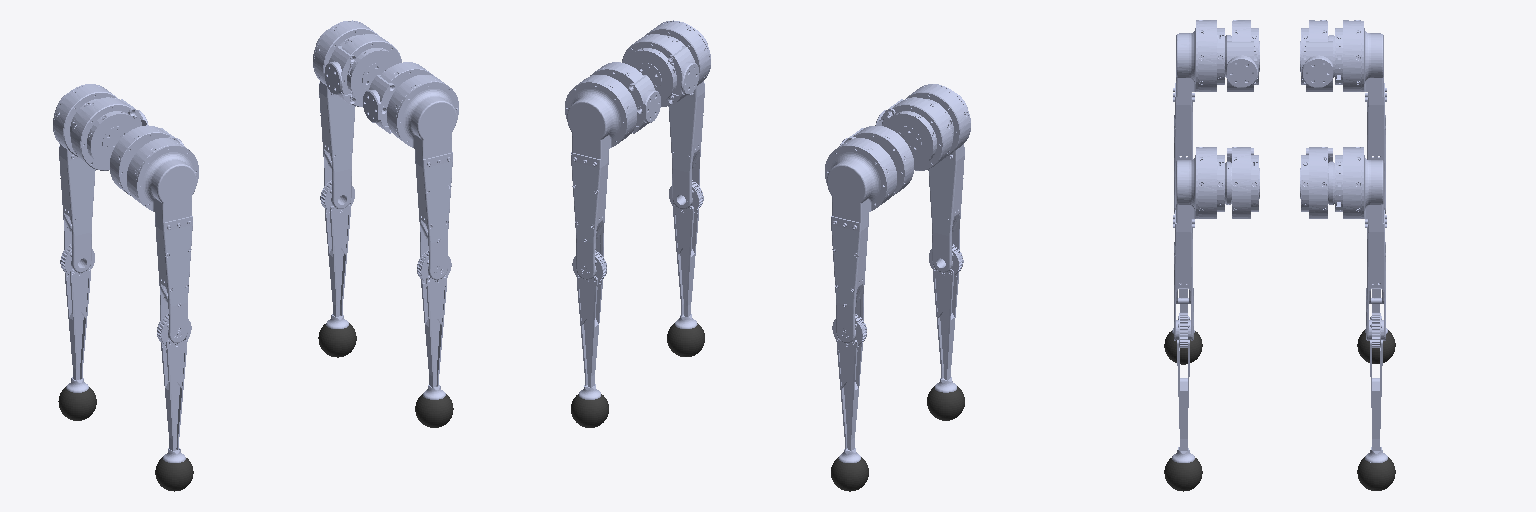
robot.urdf — mit_mini_cheetah:
<?xml version="1.0" encoding="utf-8"?>
<!-- This URDF was automatically created by SolidWorks to URDF Exporter! Originally created by [author] ([email redacted]) 
     Commit Version: 1.5.1-0-g916b5db  Build Version: 1.5.7152.31018
     For more information, please see http://wiki.ros.org/sw_urdf_exporter -->
<robot
  name="mit_mini_cheetah">
  <link
    name="body">
    <inertial>
      <origin
        xyz="-0.00949304 0 -0.007428824"
        rpy="0 0 0" />
      <mass
        value="5.42137" />
      <inertia
        ixx="0.015659"
        ixy="0"
        ixz="0.000973"
        iyy="0.0447046"
        iyz="0"
        izz="0.0531832" />
    </inertial>
    <visual>
      <origin
        xyz="0 0 0"
        rpy="0 0 0" />
      <geometry>
        <mesh
          filename="meshes/body.STL" />
      </geometry>
      <material
        name="">
        <color
          rgba="0.79216 0.81961 0.93333 1" />
      </material>
    </visual>
    <collision>
      <origin
        xyz="0 0 0"
        rpy="0 0 0" />
      <geometry>
        <mesh
          filename="meshes/body_rebuild.obj" />
      </geometry>
    </collision>
  </link>
  <link
    name="abduct_fl">
    <inertial>
      <origin
        xyz="-0.0024349 -0.00060384 2.8097E-05"
        rpy="0 0 0" />
      <mass
        value="0.532" />
      <inertia
        ixx="0.00033168"
        ixy="-5.811E-06"
        ixz="5.93E-07"
        iyy="0.00053532"
        iyz="-2.8E-07"
        izz="0.00037553" />
    </inertial>
    <visual>
      <origin
        xyz="0 0 0"
        rpy="0 0 0" />
      <geometry>
        <mesh
          filename="meshes/abduct_fl.STL" />
      </geometry>
      <material
        name="">
        <color
          rgba="0.79216 0.81961 0.93333 1" />
      </material>
    </visual>
    <collision>
      <origin
        xyz="0 0 0"
        rpy="0 0 0" />
      <geometry>
        <mesh
          filename="meshes/hip_module_fl.obj" />
      </geometry>
    </collision>
  </link>
  <joint
    name="torso_to_abduct_fl_j"
    type="revolute">
    <origin
      xyz="0.196 0.05 0"
      rpy="0 0 0" />
    <parent
      link="body" />
    <child
      link="abduct_fl" />
    <axis
      xyz="1 0 0" />
    <limit
      lower="-6.28"
      upper="6.28"
      effort="30"
      velocity="24" />
    <joint_properties damping=".0" friction=".0"/>
  </joint>
  <link
    name="thigh_fl">
    <inertial>
      <origin
        xyz="0.00013591 -0.024874 -0.0075354"
        rpy="0 0 0" />
      <mass
        value="0.67586" />
      <inertia
        ixx="0.0010561"
        ixy="2.23E-06"
        ixz="-1.358E-07"
        iyy="0.001148641"
        iyz="-0.00012713"
        izz="0.00048521" />
    </inertial>
    <visual>
      <origin
        xyz="0 0 0"
        rpy="0 0 0" />
      <geometry>
        <mesh
          filename="meshes/thigh_fl.STL" />
      </geometry>
      <material
        name="">
        <color
          rgba="0.79216 0.81961 0.93333 1" />
      </material>
    </visual>
    <collision>
      <origin
        xyz="0 0 0"
        rpy="0 0 0" />
      <geometry>
        <mesh
          filename="meshes/thigh_module_rebuild_fl.obj" />
      </geometry>
    </collision>
  </link>
  <joint
    name="abduct_fl_to_thigh_fl_j"
    type="revolute">
    <origin
      xyz="0 0.07575 0"
      rpy="0 0 0" />
    <parent
      link="abduct_fl" />
    <child
      link="thigh_fl" />
    <axis
      xyz="0 -1 0" />
    <limit
      lower="-6.28"
      upper="6.28"
      effort="30"
      velocity="24" />
    <joint_properties damping=".0" friction=".0"/>
  </joint>
  <link
    name="shank_fl">
    <inertial>
      <origin
        xyz="0 0 0.037888"
        rpy="0 0 0" />
      <mass
        value="0.09264" />
      <inertia
        ixx="0.00029147"
        ixy="0"
        ixz="0"
        iyy="0.00029711"
        iyz="0"
        izz="1.0337E-05" />
    </inertial>
    <visual>
      <origin
        xyz="0 0 0"
        rpy="0 0 0" />
      <geometry>
        <mesh
          filename="meshes/shank_fl.STL" />
      </geometry>
      <material
        name="">
        <color
          rgba="0.79216 0.81961 0.93333 1" />
      </material>
    </visual>
    <collision>
      <origin
        xyz="0 0 0"
        rpy="0 0 0" />
      <geometry>
        <mesh
          filename="meshes/shank_module_fl.obj" />
      </geometry>
    </collision>
  </link>
  <joint
    name="thigh_fl_to_knee_fl_j"
    type="revolute">
    <origin
      xyz="0 0 -0.2115"
      rpy="0 0 0" />
    <parent
      link="thigh_fl" />
    <child
      link="shank_fl" />
    <axis
      xyz="0 -1 0" />
    <limit
      lower="-1.57"
      upper="1.57"
      effort="30"
      velocity="24" />
    <joint_properties damping=".0" friction=".0"/>
  </joint>
  <link
    name="toe_fl">
    <contact>
      <friction_anchor/>
      <stiffness value="30000.0"/>
      <damping value="1000.0"/>
      <spinning_friction value="0.1"/>
      <lateral_friction value="10.0"/>
    </contact>
    <inertial>
      <origin
        xyz="0 1.8359E-10 0.00048927"
        rpy="0 0 0" />
      <mass
        value="0.013021" />
      <inertia
        ixx="4.7846E-06"
        ixy="6.5112E-29"
        ixz="1.7122E-22"
        iyy="4.7846E-06"
        iyz="2.1623E-13"
        izz="5.3609E-06" />
    </inertial>
    <visual>
      <origin
        xyz="0 0 0"
        rpy="0 0 0" />
      <geometry>
        <mesh
          filename="meshes/toe_fl.STL" />
      </geometry>
      <material
        name="">
        <color
          rgba="0.29804 0.29804 0.29804 1" />
      </material>
    </visual>
    <collision>
      <origin
        xyz="0 0 0"
        rpy="0 0 0" />
      <geometry>
        <mesh
          filename="meshes/toe_fl.obj" />
      </geometry>
    </collision>
  </link>
  <joint
    name="toe_fl_joint"
    type="fixed">
    <origin
      xyz="-0.00025 0.00024999 -0.20727"
      rpy="0 0 0" />
    <parent
      link="shank_fl" />
    <child
      link="toe_fl" />
    <axis
      xyz="0 0 0" />
    <dynamics
      damping="0"
      friction="0" />
  </joint>
  <link
    name="abduct_fr">
    <inertial>
      <origin
        xyz="-0.0024349 0.0006038 -2.81E-05"
        rpy="0 0 0" />
      <mass
        value="0.532" />
      <inertia
        ixx="0.00033168"
        ixy="5.811E-06"
        ixz="-5.93E-07"
        iyy="0.00053532"
        iyz="-2.8E-07"
        izz="0.00037553" />
    </inertial>
    <visual>
      <origin
        xyz="0 0 0"
        rpy="0 0 0" />
      <geometry>
        <mesh
          filename="meshes/abduct_fr.STL" />
      </geometry>
      <material
        name="">
        <color
          rgba="0.79216 0.81961 0.93333 1" />
      </material>
    </visual>
    <collision>
      <origin
        xyz="0 0 0"
        rpy="0 0 0" />
      <geometry>
        <mesh
          filename="meshes/hip_module_fr.obj" />
      </geometry>
    </collision>
  </link>
  <joint
    name="torso_to_abduct_fr_j"
    type="revolute">
    <origin
      xyz="0.196 -0.05 0"
      rpy="0 0 0" />
    <parent
      link="body" />
    <child
      link="abduct_fr" />
    <axis
      xyz="1 0 0" />
    <limit
      lower="-6.28"
      upper="6.28"
      effort="30"
      velocity="24" />
    <joint_properties damping=".0" friction=".0"/>
  </joint>
  <link
    name="thigh_fr">
    <inertial>
      <origin
        xyz="0.000136 0.024874 -0.007535"
        rpy="0 0 0" />
      <mass
        value="0.67586" />
      <inertia
        ixx="0.0010561"
        ixy="2.23E-06"
        ixz="1.358E-07"
        iyy="0.0011486"
        iyz="0.00012713"
        izz="0.00048521" />
    </inertial>
    <visual>
      <origin
        xyz="0 0 0"
        rpy="0 0 0" />
      <geometry>
        <mesh
          filename="meshes/thigh_fr.STL" />
      </geometry>
      <material
        name="">
        <color
          rgba="0.79216 0.81961 0.93333 1" />
      </material>
    </visual>
    <collision>
      <origin
        xyz="0 0 0"
        rpy="0 0 0" />
      <geometry>
        <mesh
          filename="meshes/thigh_module_rebuild_fr.obj" />
      </geometry>
    </collision>
  </link>
  <joint
    name="abduct_fr_to_thigh_fr_j"
    type="revolute">
    <origin
      xyz="0 -0.07575 0"
      rpy="0 0 0" />
    <parent
      link="abduct_fr" />
    <child
      link="thigh_fr" />
    <axis
      xyz="0 -1 0" />
    <limit
      lower="-6.28"
      upper="6.28"
      effort="30"
      velocity="24" />
    <joint_properties damping=".0" friction=".0"/>
  </joint>
  <link
    name="shank_fr">
    <inertial>
      <origin
        xyz="0 0 0.037888"
        rpy="0 0 0" />
      <mass
        value="0.09264" />
      <inertia
        ixx="0.00029147"
        ixy="0"
        ixz="0"
        iyy="0.00029711"
        iyz="0"
        izz="1.0337E-05" />
    </inertial>
    <visual>
      <origin
        xyz="0 0 0"
        rpy="0 0 0" />
      <geometry>
        <mesh
          filename="meshes/shank_fr.STL" />
      </geometry>
      <material
        name="">
        <color
          rgba="0.79216 0.81961 0.93333 1" />
      </material>
    </visual>
    <collision>
      <origin
        xyz="0 0 0"
        rpy="0 0 0" />
      <geometry>
        <mesh
          filename="meshes/shank_module_fr.obj" />
      </geometry>
    </collision>
  </link>
  <joint
    name="thigh_fr_to_knee_fr_j"
    type="revolute">
    <origin
      xyz="0 0 -0.2115"
      rpy="0 0 0" />
    <parent
      link="thigh_fr" />
    <child
      link="shank_fr" />
    <axis
      xyz="0 -1 0" />
    <limit
      lower="-1.57"
      upper="1.57"
      effort="30"
      velocity="24" />
    <joint_properties damping=".0" friction=".0"/>
  </joint>
  <link
    name="toe_fr">
    <contact>
      <friction_anchor/>
      <stiffness value="30000.0"/>
      <damping value="1000.0"/>
      <spinning_friction value="0.1"/>
      <lateral_friction value="10.0"/>
    </contact>
    <inertial>
      <origin
        xyz="0 -1.8359E-10 0.00048927"
        rpy="0 0 0" />
      <mass
        value="0.013021" />
      <inertia
        ixx="4.7846E-06"
        ixy="2.6548E-28"
        ixz="-6.9737E-22"
        iyy="4.7846E-06"
        iyz="-2.1623E-13"
        izz="5.3609E-06" />
    </inertial>
    <visual>
      <origin
        xyz="0 0 0"
        rpy="0 0 0" />
      <geometry>
        <mesh
          filename="meshes/toe_fr.STL" />
      </geometry>
      <material
        name="">
        <color
          rgba="0.29804 0.29804 0.29804 1" />
      </material>
    </visual>
    <collision>
      <origin
        xyz="0 0 0"
        rpy="0 0 0" />
      <geometry>
        <mesh
          filename="meshes/toe_fr.obj" />
      </geometry>
    </collision>
  </link>
  <joint
    name="toe_fr_joint"
    type="fixed">
    <origin
      xyz="0.00025 -0.00024999 -0.20727"
      rpy="0 0 0" />
    <parent
      link="shank_fr" />
    <child
      link="toe_fr" />
    <axis
      xyz="0 0 0" />
    <dynamics
      damping="0"
      friction="0" />
  </joint>
  <link
    name="abduct_hl">
    <inertial>
      <origin
        xyz="0.0024349 -0.0006038 -2.81E-05"
        rpy="0 0 0" />
      <mass
        value="0.532" />
      <inertia
        ixx="0.00033168"
        ixy="5.811E-06"
        ixz="5.93E-07"
        iyy="0.00053532"
        iyz="2.8E-07"
        izz="0.00037553" />
    </inertial>
    <visual>
      <origin
        xyz="0 0 0"
        rpy="0 0 0" />
      <geometry>
        <mesh
          filename="meshes/abduct_hl.STL" />
      </geometry>
      <material
        name="">
        <color
          rgba="0.79216 0.81961 0.93333 1" />
      </material>
    </visual>
    <collision>
      <origin
        xyz="0 0 0"
        rpy="0 0 0" />
      <geometry>
        <mesh
          filename="meshes/hip_module_hl.obj" />
      </geometry>
    </collision>
  </link>
  <joint
    name="torso_to_abduct_hl_j"
    type="revolute">
    <origin
      xyz="-0.196 0.05 0"
      rpy="0 0 0" />
    <parent
      link="body" />
    <child
      link="abduct_hl" />
    <axis
      xyz="1 0 0" />
    <limit
      lower="-6.28"
      upper="6.28"
      effort="30"
      velocity="24" />
    <joint_properties damping=".0" friction=".0"/>
  </joint>
  <link
    name="thigh_hl">
    <inertial>
      <origin
        xyz="-0.000136 -0.024874 -0.007535"
        rpy="0 0 0" />
      <mass
        value="0.67586" />
      <inertia
        ixx="0.0010561"
        ixy="2.23E-06"
        ixz="-1.358E-07"
        iyy="0.0011486"
        iyz="-0.00012713"
        izz="0.00048521" />
    </inertial>
    <visual>
      <origin
        xyz="0 0 0"
        rpy="0 0 0" />
      <geometry>
        <mesh
          filename="meshes/thigh_hl.STL" />
      </geometry>
      <material
        name="">
        <color
          rgba="0.79216 0.81961 0.93333 1" />
      </material>
    </visual>
    <collision>
      <origin
        xyz="0 0 0"
        rpy="0 0 0" />
      <geometry>
        <mesh
          filename="meshes/thigh_module_rebuild_hl.obj" />
      </geometry>
    </collision>
  </link>
  <joint
    name="abduct_hl_to_thigh_hl_j"
    type="revolute">
    <origin
      xyz="0 0.07575 0"
      rpy="0 0 0" />
    <parent
      link="abduct_hl" />
    <child
      link="thigh_hl" />
    <axis
      xyz="0 -1 0" />
    <limit
      lower="-6.28"
      upper="6.28"
      effort="30"
      velocity="24" />
    <joint_properties damping=".0" friction=".0"/>
  </joint>
  <link
    name="shank_hl">
    <inertial>
      <origin
        xyz="0 0 -0.037888"
        rpy="0 0 0" />
      <mass
        value="0.09264" />
      <inertia
        ixx="0.00029147"
        ixy="0"
        ixz="0"
        iyy="0.00029711"
        iyz="0"
        izz="1.0337E-05" />
    </inertial>
    <visual>
      <origin
        xyz="0 0 0"
        rpy="0 0 0" />
      <geometry>
        <mesh
          filename="meshes/shank_hl.STL" />
      </geometry>
      <material
        name="">
        <color
          rgba="0.79216 0.81961 0.93333 1" />
      </material>
    </visual>
    <collision>
      <origin
        xyz="0 0 0"
        rpy="0 0 0" />
      <geometry>
        <mesh
          filename="meshes/shank_module_hl.obj" />
      </geometry>
    </collision>
  </link>
  <joint
    name="thigh_hl_to_knee_hl_j"
    type="revolute">
    <origin
      xyz="0 0 -0.2115"
      rpy="0 0 0" />
    <parent
      link="thigh_hl" />
    <child
      link="shank_hl" />
    <axis
      xyz="0 -1 0" />
    <limit
      lower="-1.57"
      upper="1.57"
      effort="30"
      velocity="24" />
    <joint_properties damping=".0" friction=".0"/>
  </joint>
  <link
    name="toe_hl">
    <contact>
      <friction_anchor/>
      <stiffness value="30000.0"/>
      <damping value="1000.0"/>
      <spinning_friction value="0.1"/>
      <lateral_friction value="10.0"/>
    </contact>
    <inertial>
      <origin
        xyz="2.7756E-17 1.8359E-10 0.00048927"
        rpy="0 0 0" />
      <mass
        value="0.013021" />
      <inertia
        ixx="4.7846E-06"
        ixy="1.7531E-28"
        ixz="4.6075E-22"
        iyy="4.7846E-06"
        iyz="2.1623E-13"
        izz="5.3609E-06" />
    </inertial>
    <visual>
      <origin
        xyz="0 0 0"
        rpy="0 0 0" />
      <geometry>
        <mesh
          filename="meshes/toe_hl.STL" />
      </geometry>
      <material
        name="">
        <color
          rgba="0.29804 0.29804 0.29804 1" />
      </material>
    </visual>
    <collision>
      <origin
        xyz="0 0 0"
        rpy="0 0 0" />
      <geometry>
        <mesh
          filename="meshes/toe_hl.obj" />
      </geometry>
    </collision>
  </link>
  <joint
    name="toe_hl_joint"
    type="fixed">
    <origin
      xyz="-0.00025 0.00024999 -0.20727"
      rpy="0 0 0" />
    <parent
      link="shank_hl" />
    <child
      link="toe_hl" />
    <axis
      xyz="0 0 0" />
    <dynamics
      damping="0"
      friction="0" />
  </joint>
  <link
    name="abduct_hr">
    <inertial>
      <origin
        xyz="0.0024349 0.00060384 2.8097E-05"
        rpy="0 0 0" />
      <mass
        value="0.532" />
      <inertia
        ixx="0.00033168"
        ixy="-5.811E-06"
        ixz="-5.93E-07"
        iyy="0.00053532"
        iyz="2.8E-07"
        izz="0.00037553" />
    </inertial>
    <visual>
      <origin
        xyz="0 0 0"
        rpy="0 0 0" />
      <geometry>
        <mesh
          filename="meshes/abduct_hr.STL" />
      </geometry>
      <material
        name="">
        <color
          rgba="0.79216 0.81961 0.93333 1" />
      </material>
    </visual>
    <collision>
      <origin
        xyz="0 0 0"
        rpy="0 0 0" />
      <geometry>
        <mesh
          filename="meshes/hip_module_hr.obj" />
      </geometry>
    </collision>
  </link>
  <joint
    name="torso_to_abduct_hr_j"
    type="revolute">
    <origin
      xyz="-0.196 -0.05 0"
      rpy="0 0 0" />
    <parent
      link="body" />
    <child
      link="abduct_hr" />
    <axis
      xyz="1 0 0" />
    <limit
      lower="-6.28"
      upper="6.28"
      effort="30"
      velocity="24" />
    <joint_properties damping=".0" friction=".0"/>
  </joint>
  <link
    name="thigh_hr">
    <inertial>
      <origin
        xyz="0.0002627 0.024874 -0.0075354"
        rpy="0 0 0" />
      <mass
        value="0.67586" />
      <inertia
        ixx="0.0010561"
        ixy="2.23E-06"
        ixz="1.358E-07"
        iyy="0.0011486"
        iyz="0.00012713"
        izz="0.00048521" />
    </inertial>
    <visual>
      <origin
        xyz="0 0 0"
        rpy="0 0 0" />
      <geometry>
        <mesh
          filename="meshes/thigh_hr.STL" />
      </geometry>
      <material
        name="">
        <color
          rgba="0.79216 0.81961 0.93333 1" />
      </material>
    </visual>
    <collision>
      <origin
        xyz="0 0 0"
        rpy="0 0 0" />
      <geometry>
        <mesh
          filename="meshes/thigh_module_rebuild_hr.obj" />
      </geometry>
    </collision>
  </link>
  <joint
    name="abduct_hr_to_thigh_hr_j"
    type="revolute">
    <origin
      xyz="0 -0.07575 0"
      rpy="0 0 0" />
    <parent
      link="abduct_hr" />
    <child
      link="thigh_hr" />
    <axis
      xyz="0 -1 0" />
    <limit
      lower="-6.28"
      upper="6.28"
      effort="30"
      velocity="24" />
    <joint_properties damping=".0" friction=".0"/>
  </joint>
  <link
    name="shank_hr">
    <inertial>
      <origin
        xyz="0 0 -0.037888"
        rpy="0 0 0" />
      <mass
        value="0.09264" />
      <inertia
        ixx="0.00029147"
        ixy="0"
        ixz="0"
        iyy="0.00029711"
        iyz="0"
        izz="1.0337E-05" />
    </inertial>
    <visual>
      <origin
        xyz="0 0 0"
        rpy="0 0 0" />
      <geometry>
        <mesh
          filename="meshes/shank_hr.STL" />
      </geometry>
      <material
        name="">
        <color
          rgba="0.79216 0.81961 0.93333 1" />
      </material>
    </visual>
    <collision>
      <origin
        xyz="0 0 0"
        rpy="0 0 0" />
      <geometry>
        <mesh
          filename="meshes/shank_module_hr.obj" />
      </geometry>
    </collision>
  </link>
  <joint
    name="thigh_hr_to_knee_hr_j"
    type="revolute">
    <origin
      xyz="0 0 -0.2115"
      rpy="0 0 0" />
    <parent
      link="thigh_hr" />
    <child
      link="shank_hr" />
    <axis
      xyz="0 -1 0" />
    <limit
      lower="-1.57"
      upper="1.57"
      effort="30"
      velocity="24" />
    <joint_properties damping=".0" friction=".0"/>
  </joint>
  <link
    name="toe_hr">
    <contact>
      <friction_anchor/>
      <stiffness value="30000.0"/>
      <damping value="1000.0"/>
      <spinning_friction value="0.1"/>
      <lateral_friction value="10.0"/>
    </contact>
    <inertial>
      <origin
        xyz="-2.7756E-17 -1.8359E-10 0.00048927"
        rpy="0 0 0" />
      <mass
        value="0.013021" />
      <inertia
        ixx="4.7846E-06"
        ixy="2.1651E-28"
        ixz="-5.6869E-22"
        iyy="4.7846E-06"
        iyz="-2.1623E-13"
        izz="5.3609E-06" />
    </inertial>
    <visual>
      <origin
        xyz="0 0 0"
        rpy="0 0 0" />
      <geometry>
        <mesh
          filename="meshes/toe_hr.STL" />
      </geometry>
      <material
        name="">
        <color
          rgba="0.29804 0.29804 0.29804 1" />
      </material>
    </visual>
    <collision>
      <origin
        xyz="0 0 0"
        rpy="0 0 0" />
      <geometry>
        <mesh
          filename="meshes/toe_hr.obj" />
      </geometry>
    </collision>
  </link>
  <joint
    name="toe_hr_joint"
    type="fixed">
    <origin
      xyz="0.00025 -0.00024999 -0.20727"
      rpy="0 0 0" />
    <parent
      link="shank_hr" />
    <child
      link="toe_hr" />
    <axis
      xyz="0 0 0" />
    <dynamics
      damping="0"
      friction="0" />
  </joint>
</robot>

--- Render facts (derived) ---
Views: 3 orthographic renders of the robot side by side, from view 1: azimuth 30°, elevation 25°; view 2: azimuth 150°, elevation 25°; view 3: azimuth 270°, elevation 25°.
Model mit_mini_cheetah with 17 links and 16 joints (12 revolute, 4 fixed), rooted at body, posed all joints at 0.
Visible links, largest first — view 1: thigh_hr, thigh_fr, thigh_hl, thigh_fl, abduct_fl, abduct_hl, shank_hr, shank_fr, shank_fl, shank_hl, abduct_fr, abduct_hr (+4 smaller); view 2: thigh_hl, thigh_fl, thigh_hr, thigh_fr, abduct_fr, abduct_hr, shank_fl, shank_hl, shank_fr, shank_hr, abduct_fl, abduct_hl (+4 smaller); view 3: thigh_fl, thigh_fr, thigh_hr, thigh_hl, abduct_fl, abduct_fr, abduct_hr, abduct_hl, shank_fl, shank_fr, toe_fl, toe_fr (+2 smaller).
Link boxes in pixels (x1,y1,x2,y2): thigh_hr: (127,138,198,342); thigh_fr: (387,75,458,279); thigh_hl: (53,84,117,272); thigh_fl: (313,20,378,208); abduct_fl: (325,34,401,106); abduct_hl: (71,97,147,170); shank_hr: (157,314,191,462); shank_fr: (417,250,451,399); shank_fl: (320,180,354,328); shank_hl: (60,244,94,392); abduct_fr: (363,62,433,133); abduct_hr: (110,125,184,195); thigh_hl: (825,138,896,342); thigh_fl: (565,75,636,279); thigh_hr: (906,84,970,272); thigh_fr: (645,20,710,208); abduct_fr: (622,34,698,106); abduct_hr: (875,97,952,170); shank_fl: (572,250,606,399); shank_hl: (832,314,866,462); shank_fr: (669,180,703,328); shank_hr: (929,244,963,392); abduct_fl: (590,62,660,133); abduct_hl: (839,126,913,195); thigh_fl: (1335,147,1386,340); thigh_fr: (1173,147,1224,340); thigh_hr: (1173,20,1224,213); thigh_hl: (1335,20,1386,213); abduct_fl: (1300,147,1334,218); abduct_fr: (1225,147,1259,218); abduct_hr: (1225,20,1259,91); abduct_hl: (1300,20,1334,91); shank_fl: (1365,313,1387,462); shank_fr: (1172,313,1194,462); toe_fl: (1357,457,1395,490); toe_fr: (1164,458,1202,491).
Bounding box of the posed robot: 0.4859 × 0.3019 × 0.4882 m (x, y, z).
Meshes: 17 distinct files referenced, 16 mesh visuals loaded (16 binary STL); not drawn: 1 (reference not matched to a file when rendering).